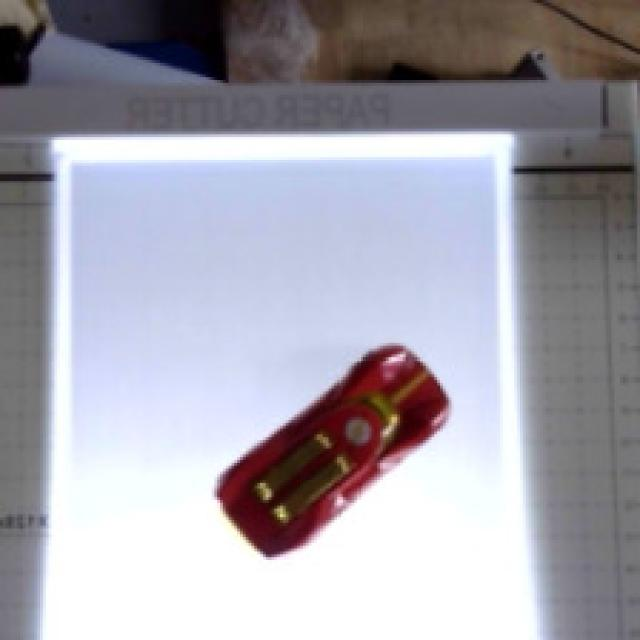Red Car: (191, 289, 472, 575)
